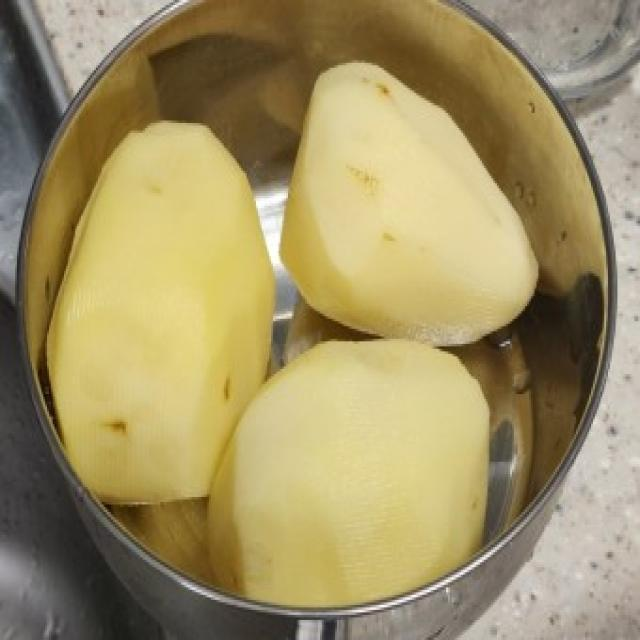potato: (45, 118, 278, 510), (206, 332, 492, 612), (280, 61, 541, 344)
